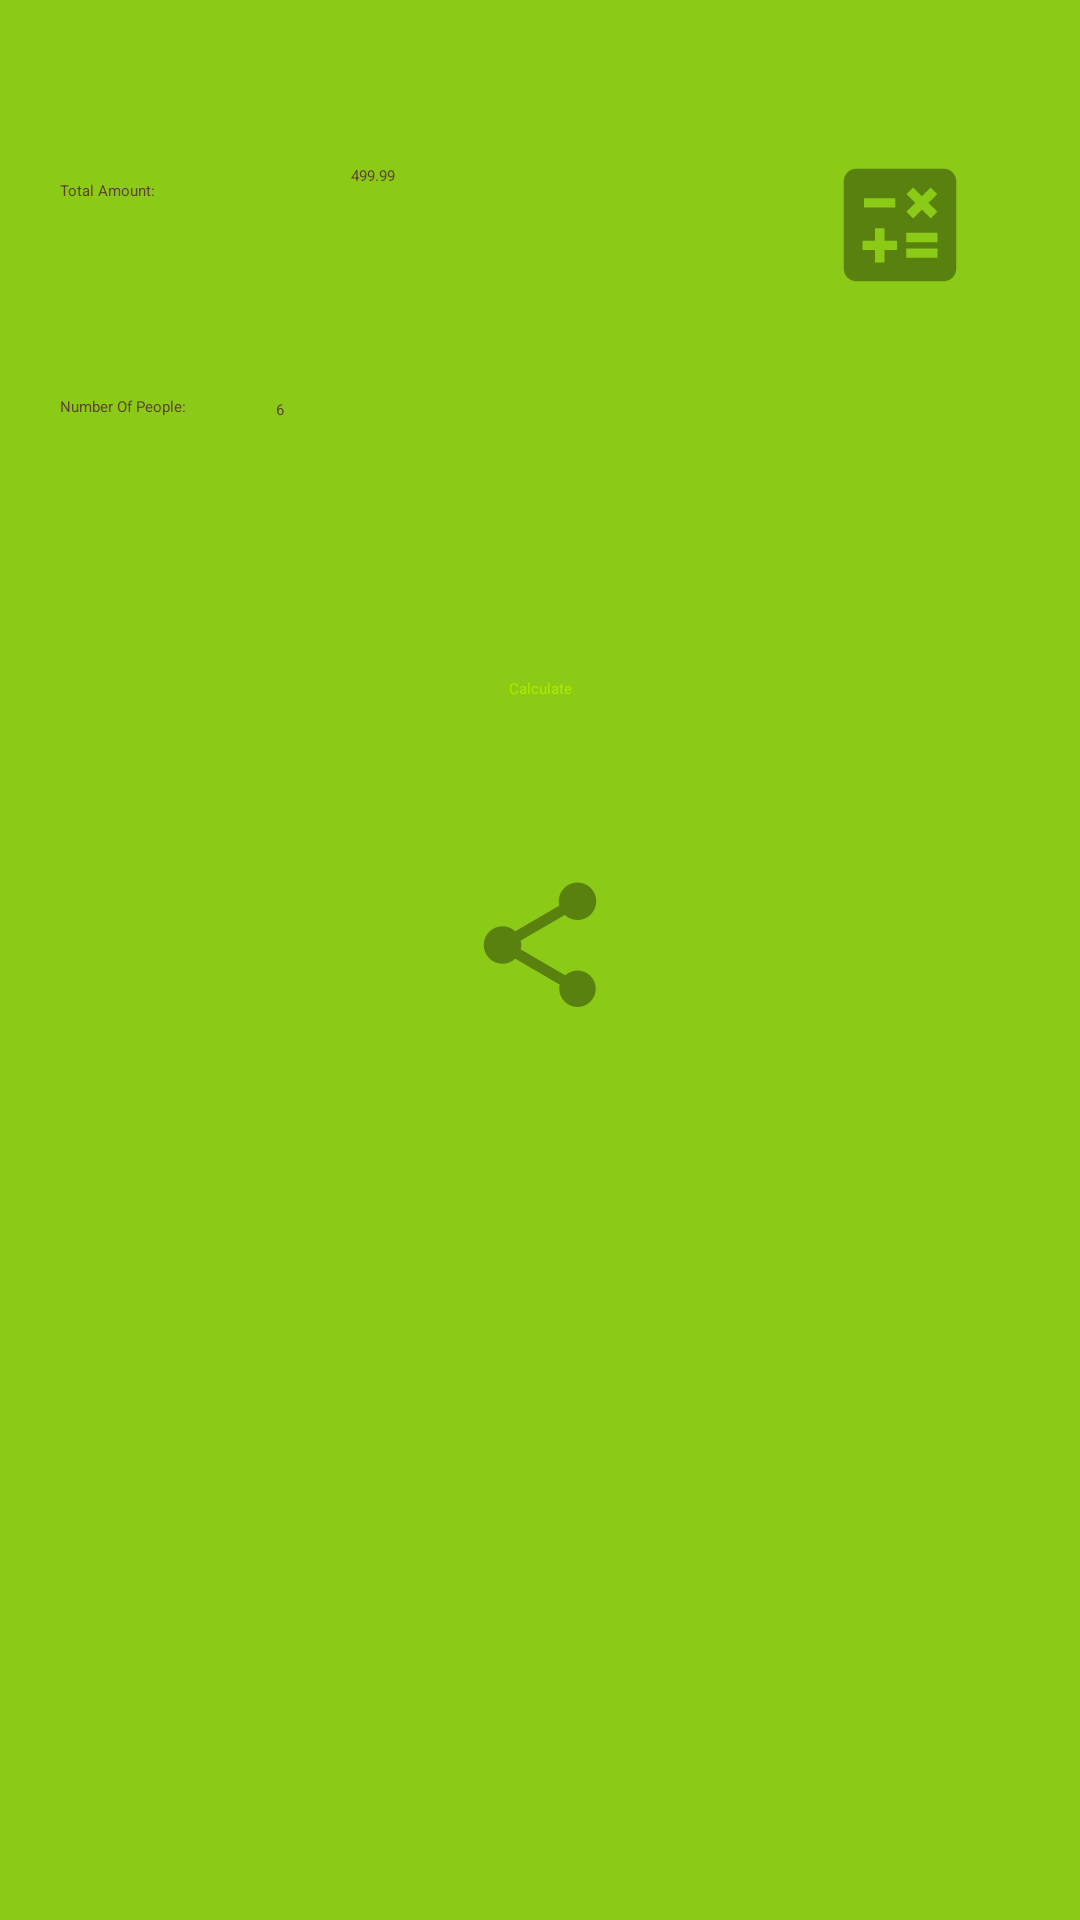

Named icons in this screenshot (1080x1920) and their bounding boxes, (x1, y1, x2, y2):
Calculate: (844, 169, 956, 281)
Share: (484, 882, 596, 1007)
